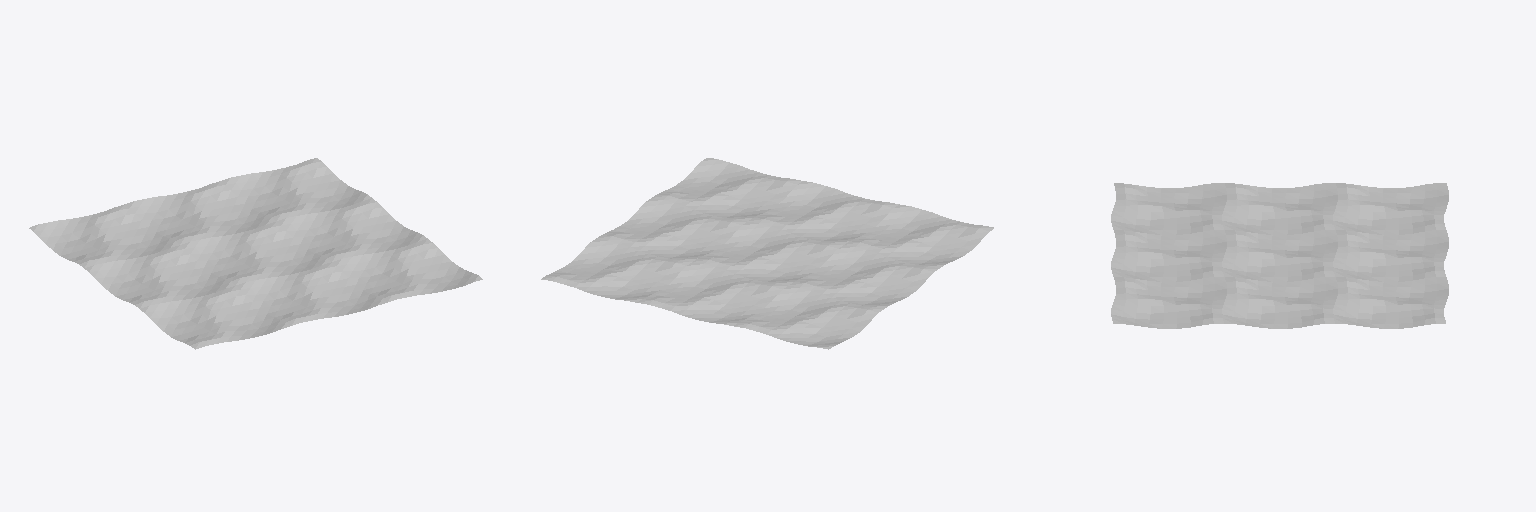
File: ocean_000119.obj
3 renders of one model, left to right at view 1: azimuth 30°, elevation 25°; view 2: azimuth 150°, elevation 25°; view 3: azimuth 270°, elevation 25°, orthographic.
Visible parts, largest first — view 1: Ocean_Plan.001; view 2: Ocean_Plan.001; view 3: Ocean_Plan.001.
Part boxes in pixels (x1,y1,x2,y2): Ocean_Plan.001: (29, 158, 482, 349); Ocean_Plan.001: (541, 158, 993, 349); Ocean_Plan.001: (1111, 183, 1448, 328).
Bounding box in the file's own units: 109269 × 2484 × 110736.